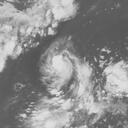cyclone: (38, 36, 91, 97)
